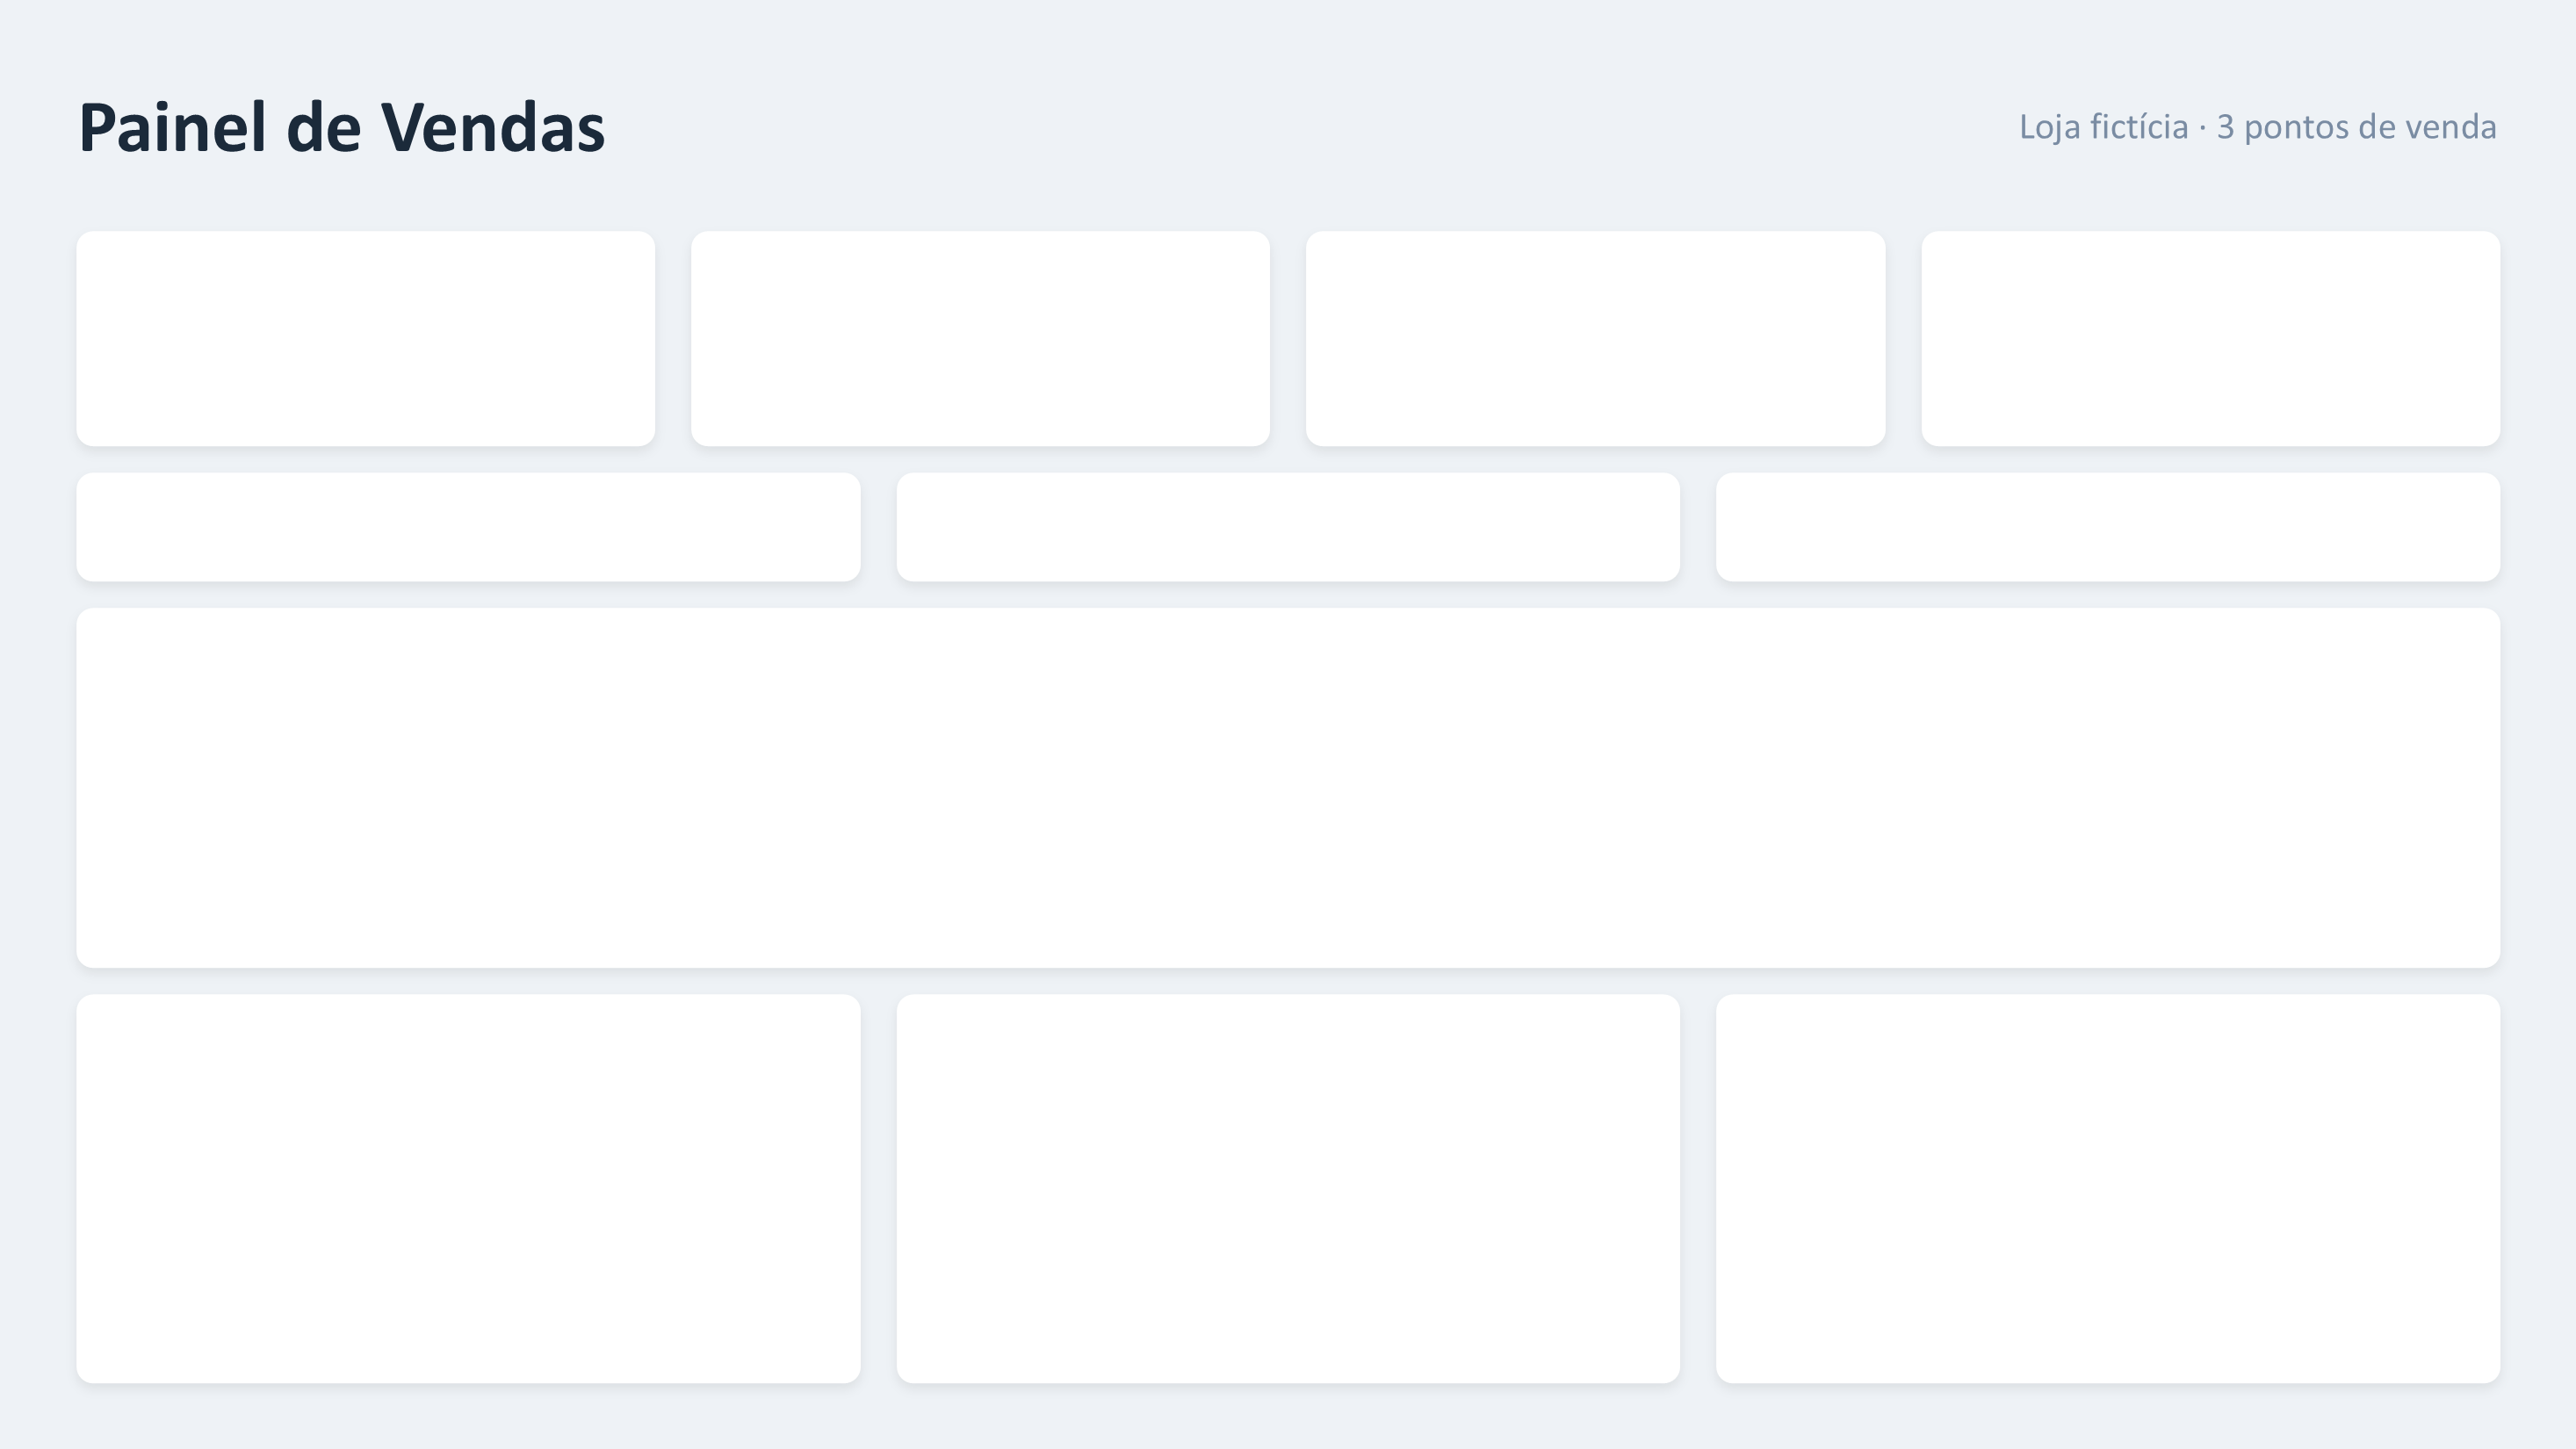

This screenshot's page, from the dashboard's own definition file:
{"tool":"powerbi","page":{"name":"Página 1","canvas":[1920,1080],"ordinal":0},"visuals":[{"type":"cardVisual","fields":{"Data":["Medidas.Receita"]},"box":[69.5,172.8,397.2,147],"z":0},{"type":"cardVisual","fields":{"Data":["Medidas.Margem %"]},"box":[530.2,172.8,397,147],"z":1000},{"type":"cardVisual","fields":{"Data":["Medidas.Ticket Médio"]},"box":[987,172.8,397.2,147],"z":2000},{"type":"cardVisual","fields":{"Data":["Medidas.Variação %"]},"box":[1445.8,172.8,397,147],"z":3000},{"type":"lineChart","fields":{"Category":["Calendario.Mês Nome"],"Y":["Medidas.Receita"]},"box":[70.1,458.8,1772.5,250.2],"z":4000},{"type":"columnChart","fields":{"Category":["Vendas.categoria"],"Y":["Medidas.Receita"]},"box":[69.5,744.7,560,274.1],"z":5000},{"type":"clusteredBarChart","fields":{"Category":["Vendas.vendedor"],"Y":["Medidas.Receita"]},"box":[1288.9,744.7,554.1,274.1],"z":6000},{"type":"columnChart","fields":{"Category":["Vendas.categoria"],"Y":["Medidas.Margem %"]},"box":[677.2,744.7,564,274.1],"z":7000},{"type":"slicer","fields":{"Values":["Vendas.loja"]},"box":[681.2,357.5,552.1,69.5],"z":8000},{"type":"slicer","fields":{"Values":["Calendario.Mês Nome"]},"box":[69.5,359.5,560,61.6],"z":9000},{"type":"slicer","fields":{"Values":["Vendas.pagamento"]},"box":[1288.9,359.5,554.1,61.6],"z":10000}]}

Visuals, with their boxes in screenshot pixels (x1, y1, x2, y2), scaled from the page's 1920x1080 canvas onto the 2576x1449 screenshot:
cardVisual - Medidas.Receita: (x1=93, y1=232, x2=626, y2=429)
cardVisual - Medidas.Margem %: (x1=711, y1=232, x2=1244, y2=429)
cardVisual - Medidas.Ticket Médio: (x1=1324, y1=232, x2=1858, y2=429)
cardVisual - Medidas.Variação %: (x1=1940, y1=232, x2=2472, y2=429)
lineChart - Calendario.Mês Nome x Medidas.Receita: (x1=94, y1=616, x2=2472, y2=951)
columnChart - Vendas.categoria x Medidas.Receita: (x1=93, y1=999, x2=845, y2=1366)
clusteredBarChart - Vendas.vendedor x Medidas.Receita: (x1=1729, y1=999, x2=2472, y2=1366)
columnChart - Vendas.categoria x Medidas.Margem %: (x1=908, y1=999, x2=1665, y2=1366)
slicer - Vendas.loja: (x1=914, y1=479, x2=1655, y2=573)
slicer - Calendario.Mês Nome: (x1=93, y1=482, x2=845, y2=565)
slicer - Vendas.pagamento: (x1=1729, y1=482, x2=2472, y2=565)
